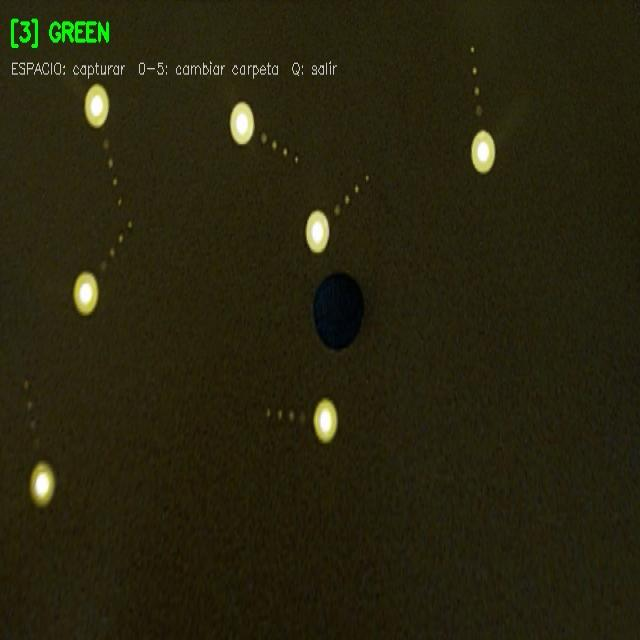green: (314, 272, 358, 344)
